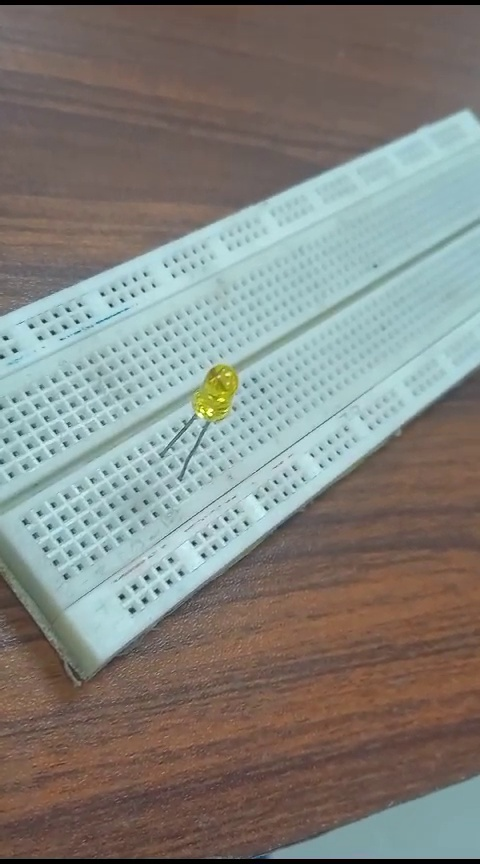LED: (168, 356, 235, 497)
